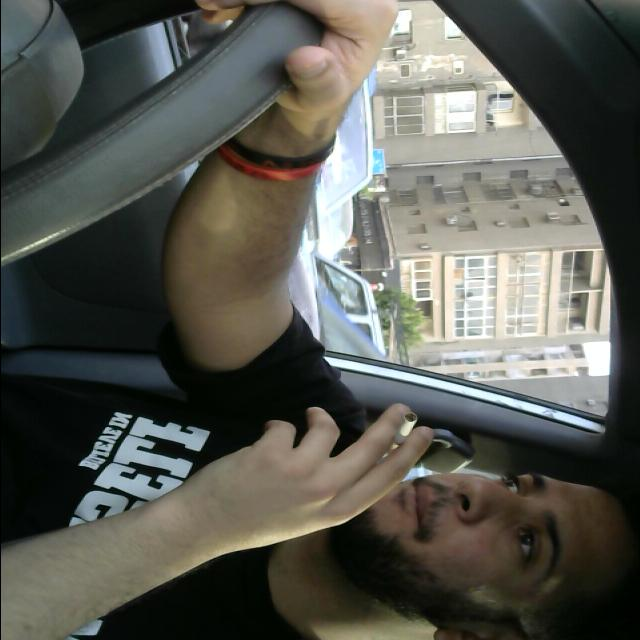smoking: (369, 409, 425, 481)
